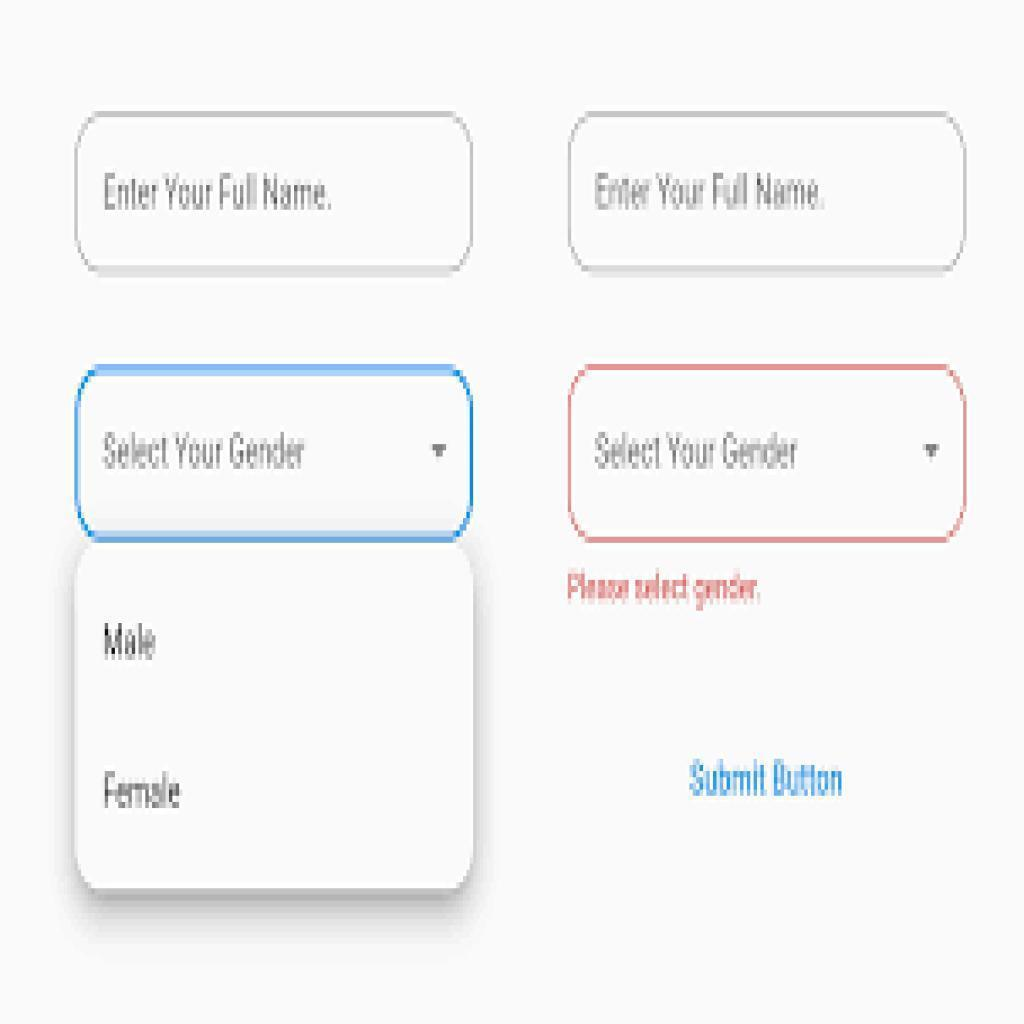dropdown: (74, 362, 475, 543), (565, 364, 967, 542)
input: (74, 111, 472, 274), (569, 113, 965, 270)
label: (681, 751, 851, 809)
